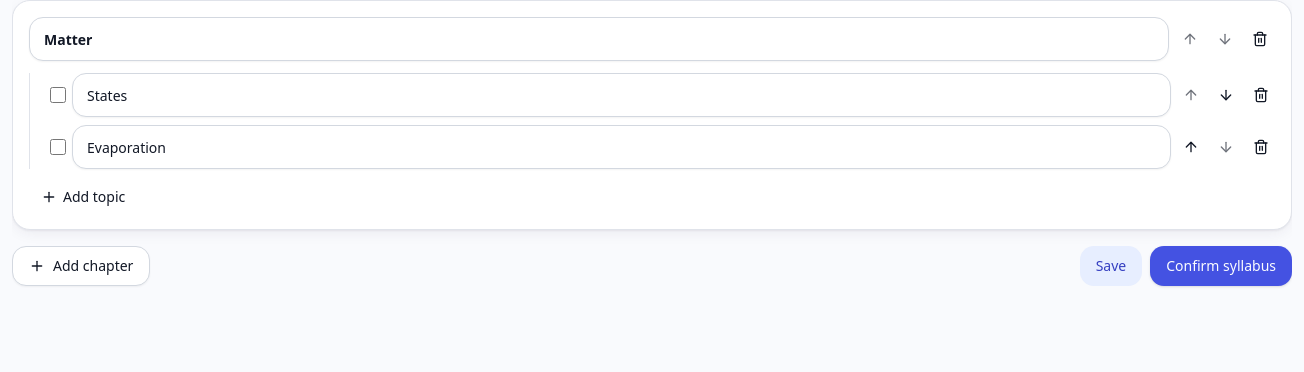
it: TopicTreeEditor: guarding the tree › will not save a chapter with topics but no name
Step 1. Clear the field named "Chapter 1 title" → (599, 39), box [29,17,1169,61]
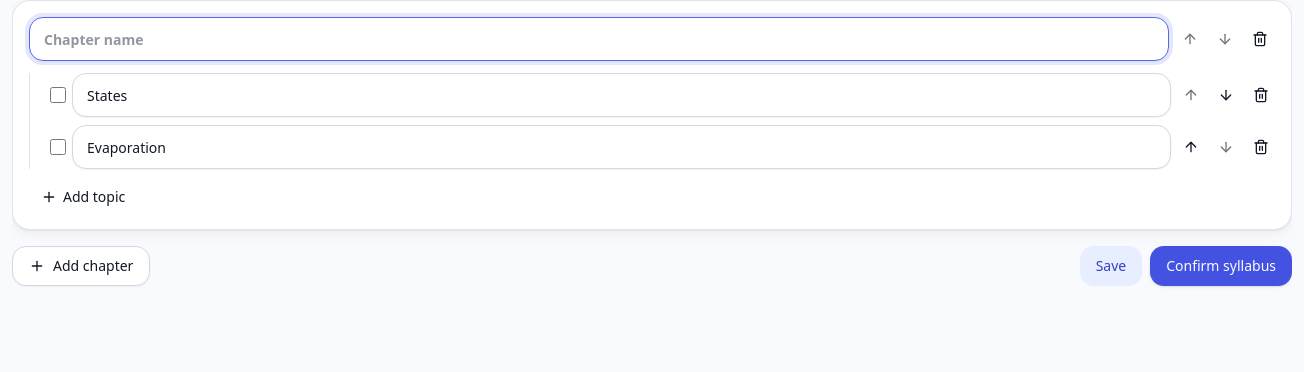
Step 2. Click the button "Save" → click(1111, 266), box [1080,246,1142,286]
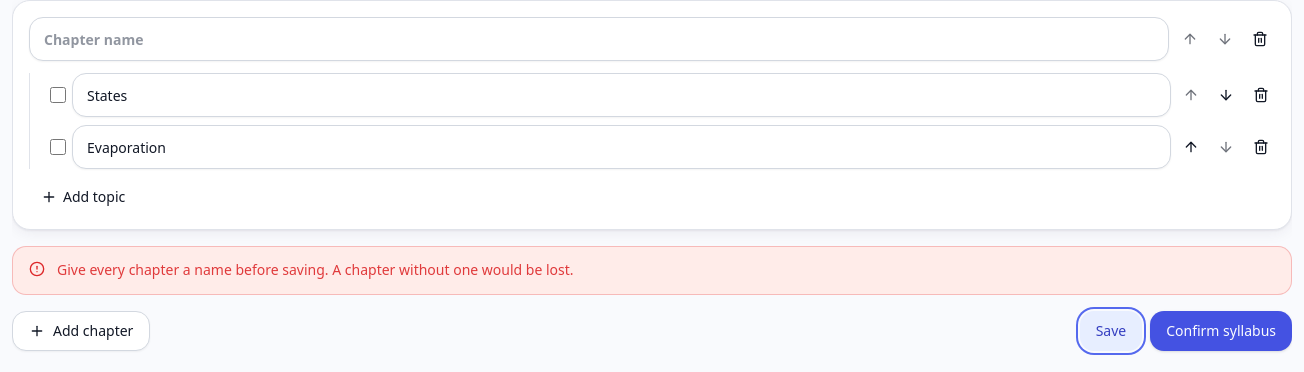
Check: the message shows "Give every chapter a name", box [57,260,574,279]
